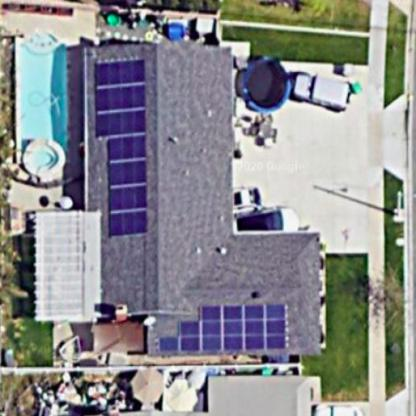car: (284, 62, 358, 115), (232, 183, 298, 237)
solar_panel: (84, 49, 158, 241), (146, 298, 300, 363)
swimming_pool: (6, 20, 79, 189)
